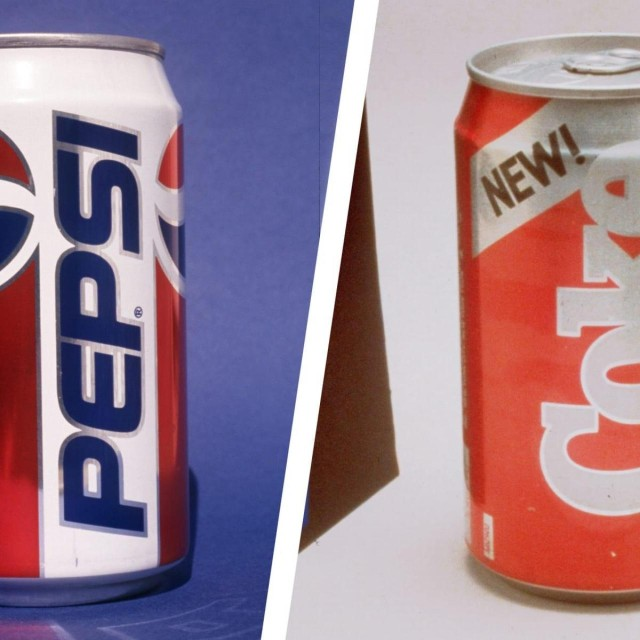pepsi: (40, 101, 152, 546)
